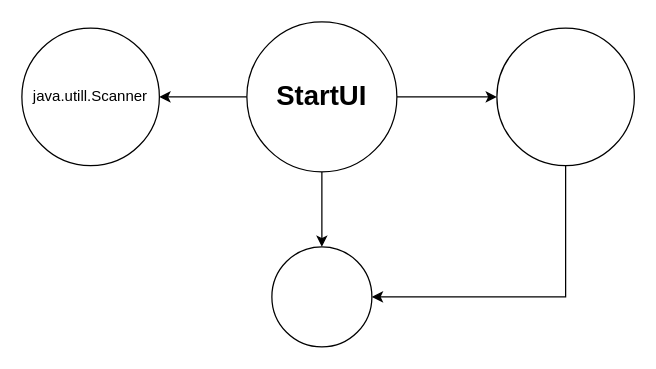
Image size: 656x369. Some labels were removed from this diagram. The centre of each missing label's shape, as x and y in pixels:
"Item" goes at (x=321, y=296).
"Tracker" goes at (x=565, y=96).
